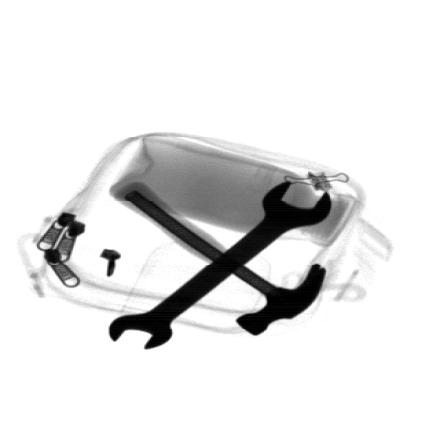Hammer: (114, 181, 327, 337)
Wrench: (108, 179, 331, 349)
